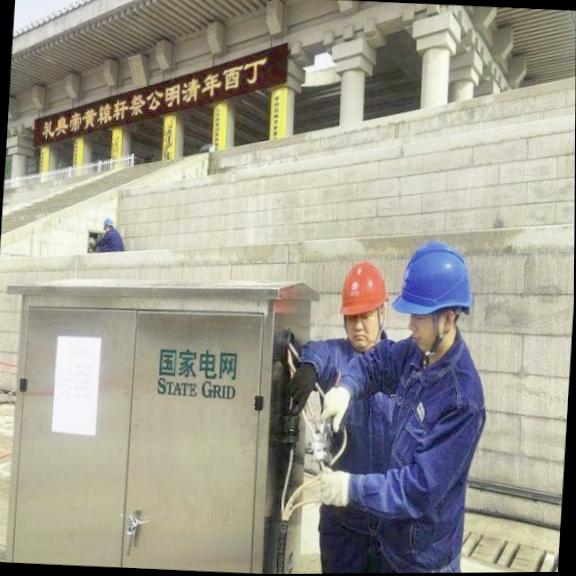no_safety_vest: (363, 325, 493, 573), (284, 328, 408, 539), (93, 228, 124, 252)
